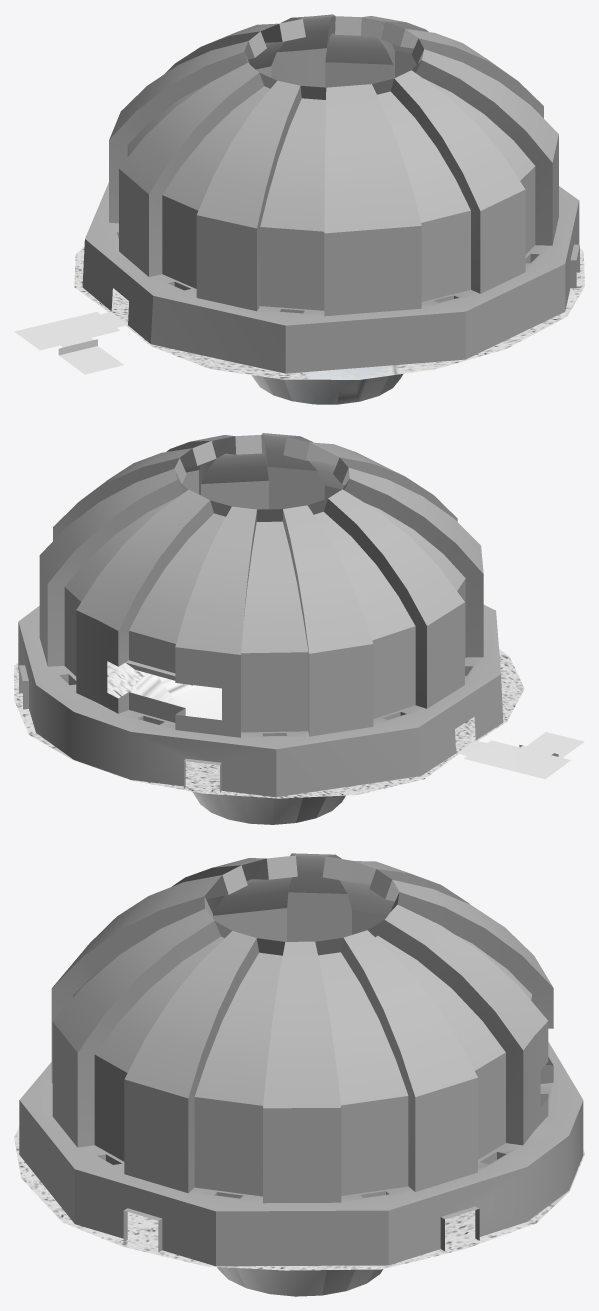
File: CleanAngarModel.fbx
3 renders of one model, top to bottom at view 1: azimuth 30°, elevation 25°; view 2: azimuth 150°, elevation 25°; view 3: azimuth 270°, elevation 25°, orthographic. The views are drawn at different scales.
Parts seen in each view (by area): view 1: polySurface704, AngarFloor, SecretLaboratoryWall_001; view 2: polySurface704, AngarFloor, SecretLaboratoryWall_001; view 3: polySurface704, AngarFloor.
Part boxes in pixels (x1=…): polySurface704: x1=82, y1=14, x2=579, y2=373; AngarFloor: x1=74, y1=246, x2=584, y2=404; SecretLaboratoryWall_001: x1=14, y1=311, x2=127, y2=374; polySurface704: x1=18, y1=433, x2=503, y2=797; AngarFloor: x1=14, y1=649, x2=524, y2=824; SecretLaboratoryWall_001: x1=456, y1=732, x2=584, y2=779; polySurface704: x1=19, y1=853, x2=583, y2=1266; AngarFloor: x1=14, y1=1127, x2=584, y2=1296.
Bounding box in the file's own units: 8306 × 4908 × 6940.
